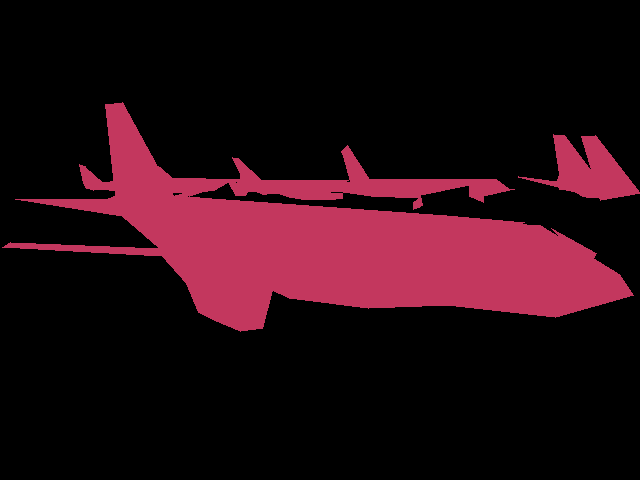Airplane: (2, 102, 634, 331), (171, 195, 597, 259), (330, 145, 515, 209), (79, 164, 255, 197), (518, 134, 600, 198), (232, 157, 349, 200), (581, 135, 640, 200)
